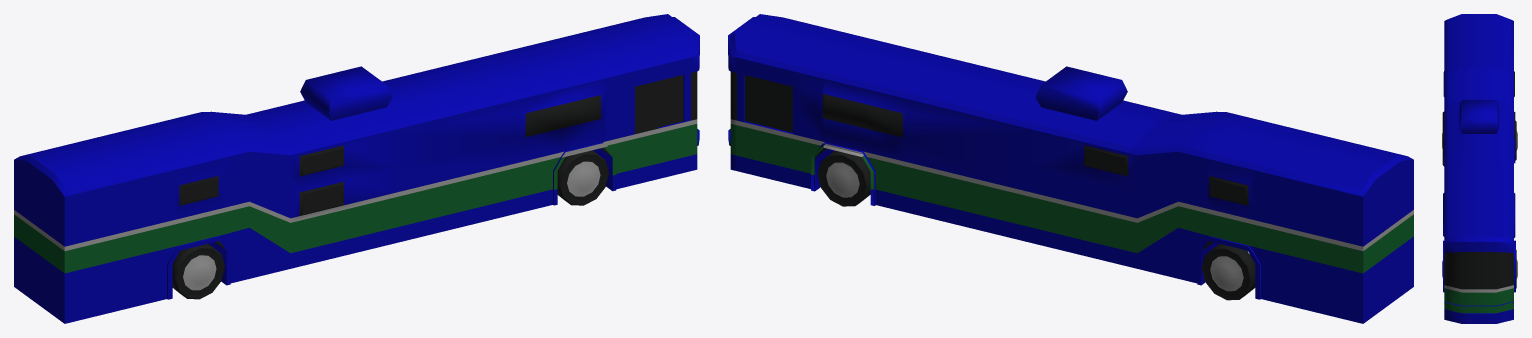
3 views of the same model, side by side, from view 1: azimuth 30°, elevation 25°; view 2: azimuth 150°, elevation 25°; view 3: azimuth 270°, elevation 25° (orthographic). The views are drawn at different scales.
Visible parts, largest first — view 1: BusMB200_2, Zylinder_2, Zylinder; view 2: BusMB200_2, Zylinder_3, Zylinder_1; view 3: BusMB200_2, Zylinder_3.
Part boxes in pixels (x1,y1,x2,y2): BusMB200_2: (14,14,699,323); Zylinder_2: (172,244,224,299); Zylinder: (557,150,608,205); BusMB200_2: (728,14,1413,323); Zylinder_3: (1201,244,1255,300); Zylinder_1: (817,150,870,206); BusMB200_2: (1442,14,1515,323); Zylinder_3: (1515,120,1517,160).
Size of the model in its own units: 1844 by 425 by 272.
